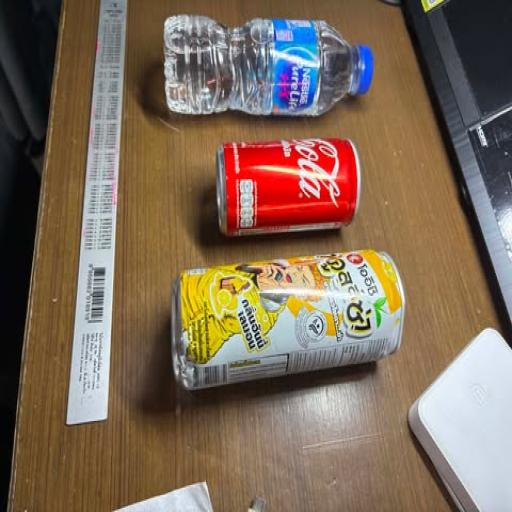bottle: (147, 9, 400, 126)
canned: (132, 243, 417, 400), (186, 132, 406, 236)
